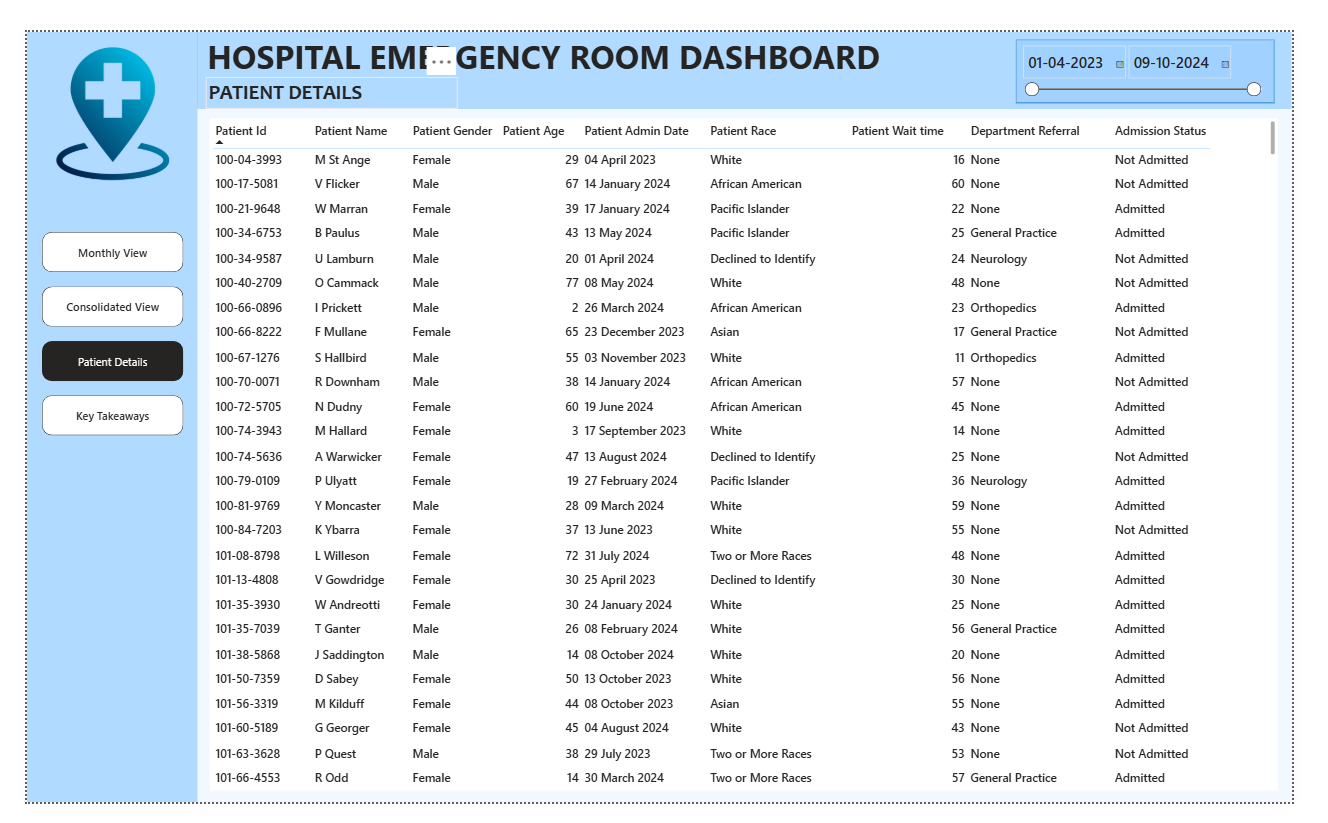

What the dashboard file says about the page in this screenshot:
{"tool":"powerbi","page":{"name":"Patient Details","canvas":[2300,1400],"ordinal":2},"visuals":[{"type":"shape","box":[0,0,310,1400.5],"z":0},{"type":"shape","box":[309.2,0,1990,140],"z":1000},{"type":"textbox","box":[323.9,0,1249.5,89.8],"z":2000},{"type":"textbox","box":[325,82.5,457.5,57.5],"z":3000},{"type":"slicer","fields":{"Values":["Date Table.Date"]},"box":[1797.5,12.5,470,115],"z":4000},{"type":"tableEx","fields":{"Values":["Hospital ER_Data.Patient Id","Hospital ER_Data.Patient Full Name ","Hospital ER_Data.Patient Gender","Sum(Hospital ER_Data.Patient Age)","Hospital ER_Data.Patient Admin Date","Hospital ER_Data.Patient Race","Sum(Hospital ER_Data.Patient Waittime)","Hospital ER_Data.Department Referral","Hospital ER_Data.Admission Status"]},"box":[332.5,157.5,1942.5,1222.5],"z":5000},{"type":"pageNavigator","box":[27.5,362.5,257.5,370],"z":6000},{"type":"image","box":[27.5,27.5,257.5,242.5],"z":7000}]}

Visuals, with their boxes in screenshot pixels (x1, y1, x2, y2), scaled from the page's 2300x1400 canvas onto the 1328x823 screenshot:
shape: <box>0,0,179,822</box>
shape: <box>179,0,1327,82</box>
textbox: <box>187,0,908,53</box>
textbox: <box>188,48,452,82</box>
slicer - Date Table.Date: <box>1038,7,1309,75</box>
tableEx - Hospital ER_Data.Patient Id x Hospital ER_Data.Patient Full Name : <box>192,93,1314,811</box>
pageNavigator: <box>16,213,165,431</box>
image: <box>16,16,165,159</box>
